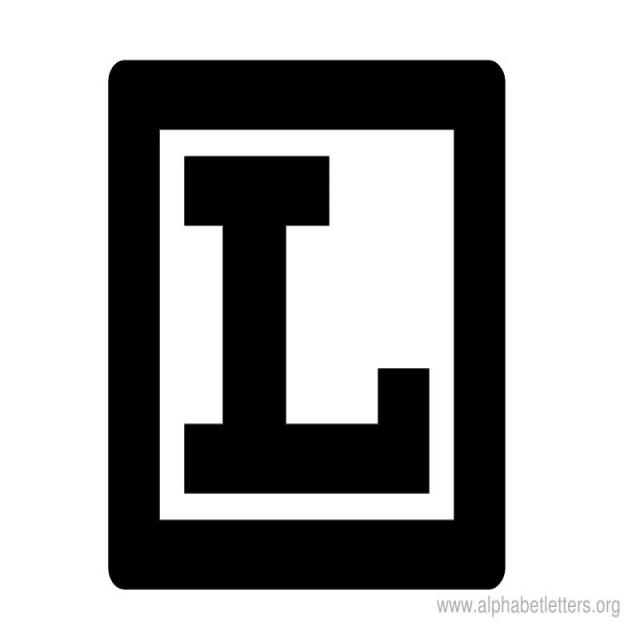L: (171, 139, 443, 502)
